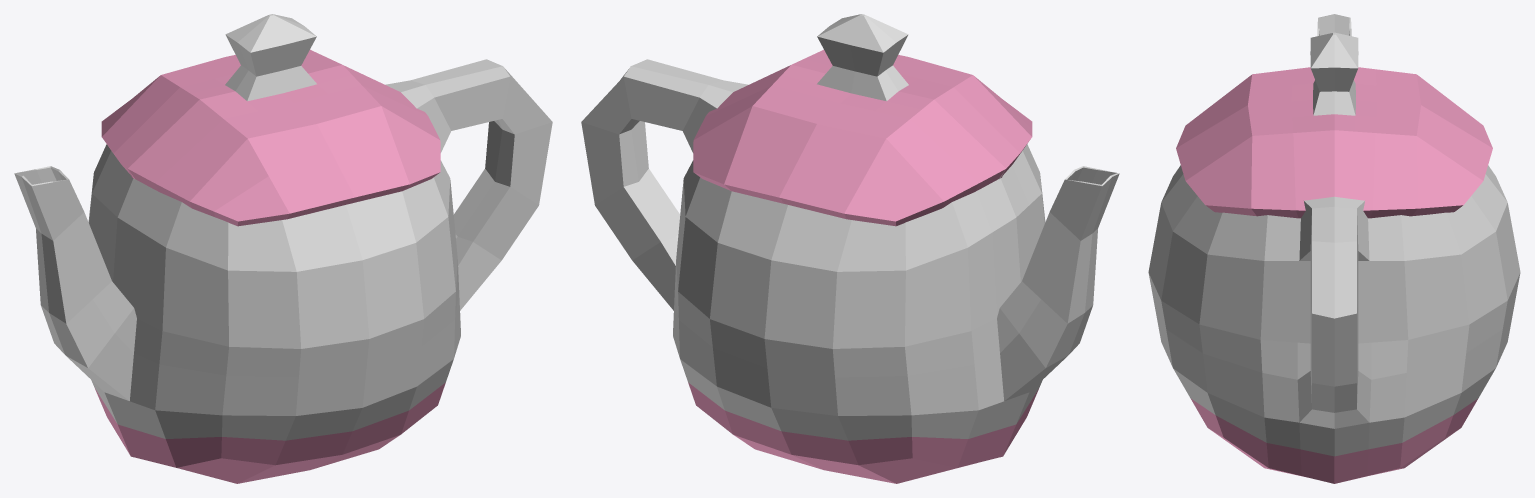
Rendered from KETTLE.fbx.
The picture shows the model from 3 angles, left to right: view 1: azimuth 30°, elevation 25°; view 2: azimuth 150°, elevation 25°; view 3: azimuth 270°, elevation 25°; orthographic projection. The views are drawn at different scales.
Visible parts, largest first — view 1: Cube.001; view 2: Cube.001; view 3: Cube.001.
Boxes of the visible parts, left/top/right/bottom form: Cube.001: left=14, top=14, right=552, bottom=483; Cube.001: left=581, top=14, right=1119, bottom=483; Cube.001: left=1148, top=14, right=1520, bottom=483.
Size of the model in its own units: 426 by 343 by 278.
